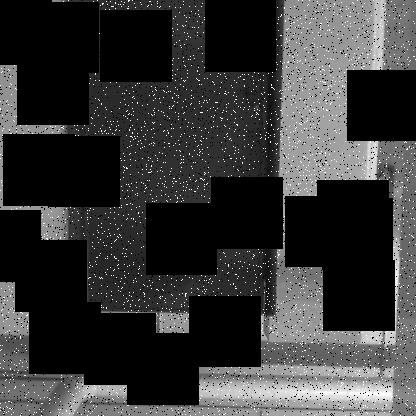Porte: (66, 0, 287, 317)
